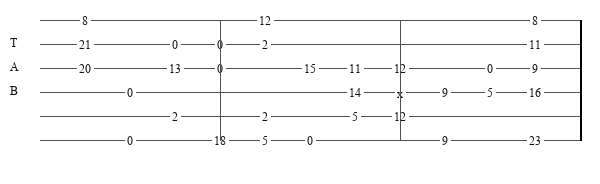0: (127, 86, 137, 99), (127, 134, 137, 147), (172, 38, 182, 51), (217, 62, 227, 75), (217, 38, 227, 51), (307, 134, 317, 147), (487, 62, 497, 75)
11: (349, 62, 365, 75), (529, 38, 545, 51)
12: (259, 14, 275, 27), (394, 62, 410, 75), (394, 110, 410, 123)
13: (169, 62, 185, 75)
14: (349, 86, 365, 99)
15: (304, 62, 320, 75)
16: (529, 86, 545, 99)
18: (214, 134, 230, 147)
2: (172, 110, 182, 123), (262, 38, 272, 51), (262, 110, 272, 123)
20: (79, 62, 95, 75)
21: (79, 38, 95, 51)
23: (529, 134, 545, 147)
5: (262, 134, 272, 147), (352, 110, 362, 123), (487, 86, 497, 99)
8: (82, 14, 92, 27), (532, 14, 542, 27)
9: (442, 86, 452, 99), (442, 134, 452, 147), (532, 62, 542, 75)
x: (397, 87, 407, 97)
